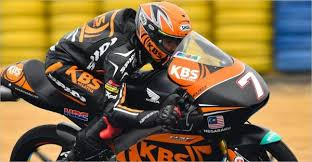helmet: (129, 1, 196, 67)
